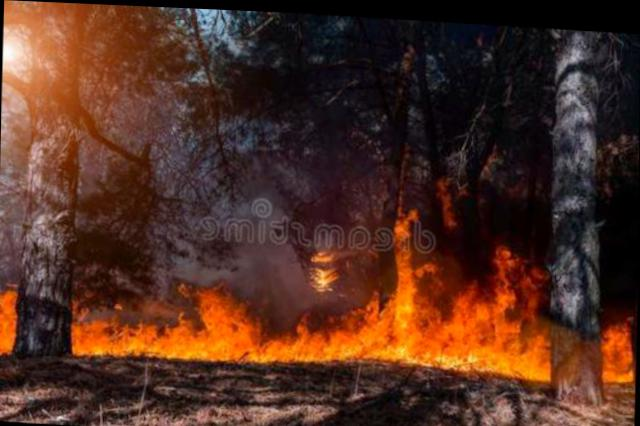fire: (70, 184, 556, 380), (603, 306, 633, 376), (0, 284, 24, 347)
